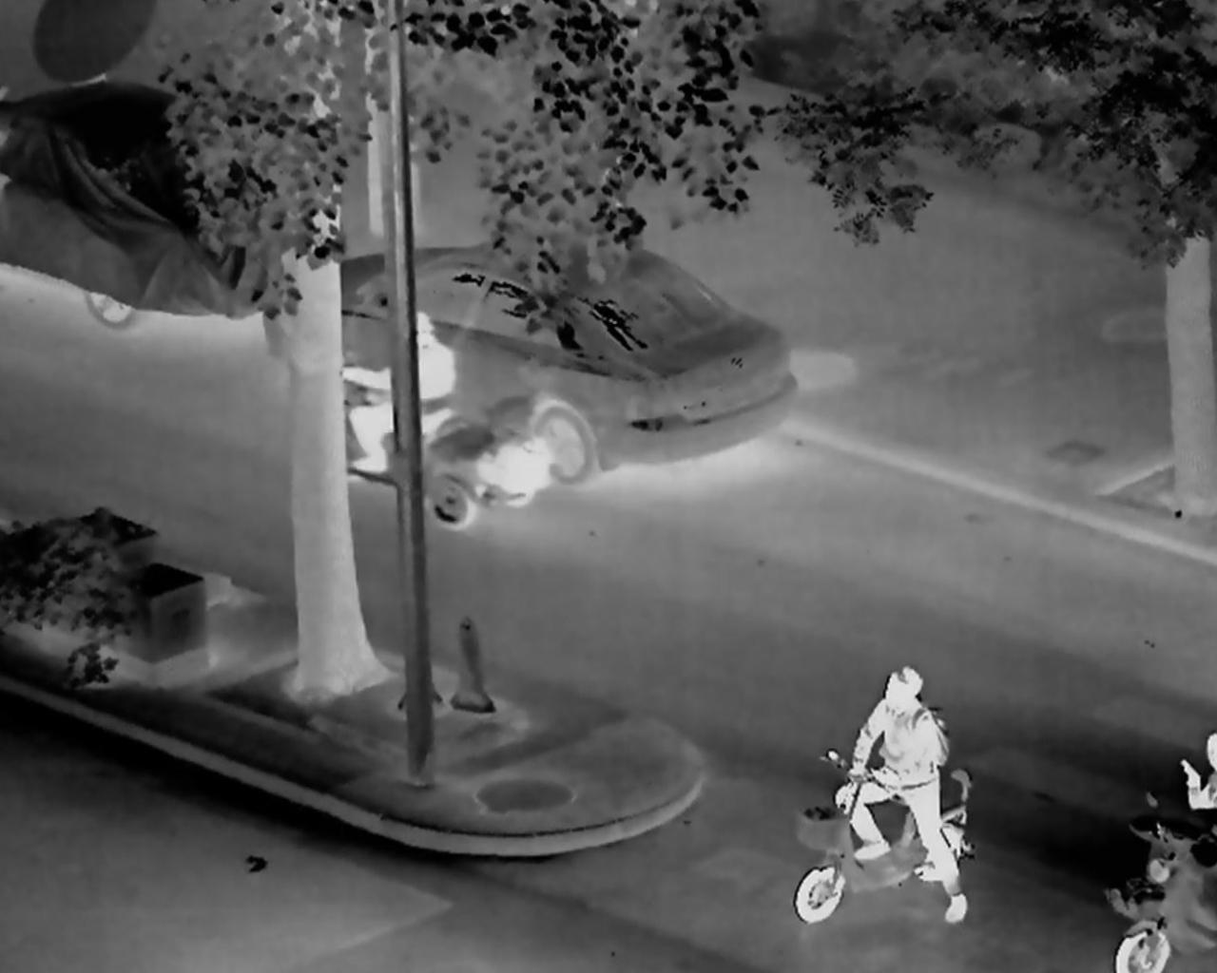person: (836, 663, 969, 923), (338, 310, 461, 474)
